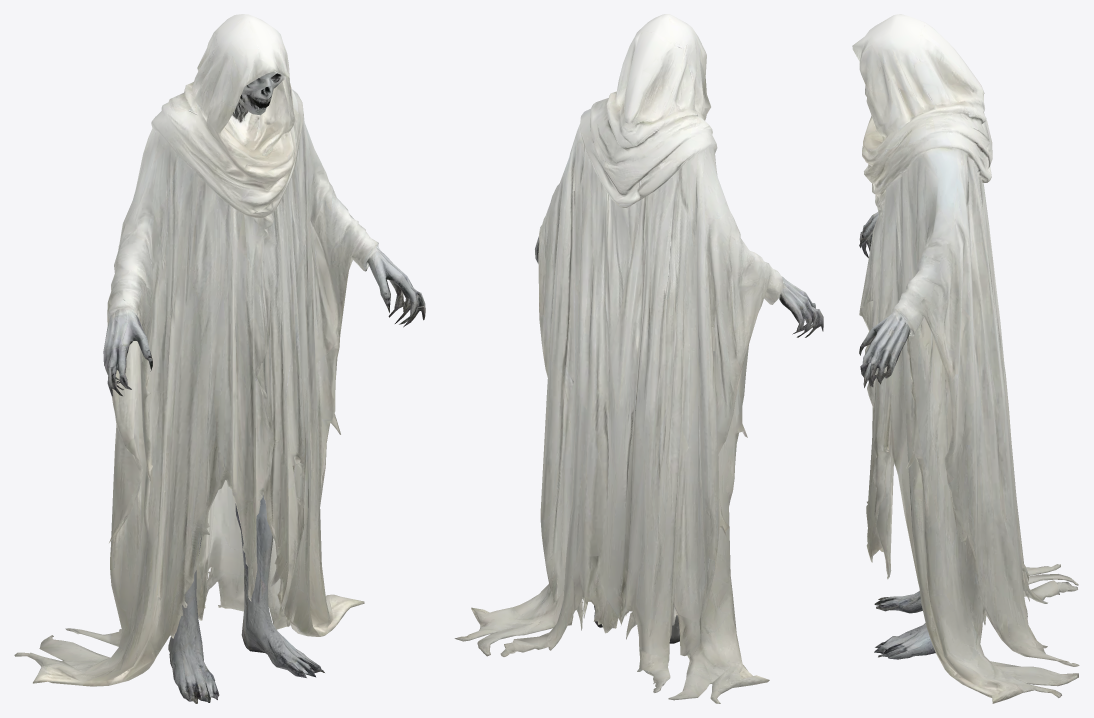
File: enm-wraith.glb
The picture shows the model from 3 angles, left to right: view 1: azimuth 30°, elevation 25°; view 2: azimuth 150°, elevation 25°; view 3: azimuth 270°, elevation 25°; orthographic projection. The views are drawn at different scales.
Size of the model in its own units: 0.9366 by 1.8 by 0.6006.
1 material, 1 textured.
